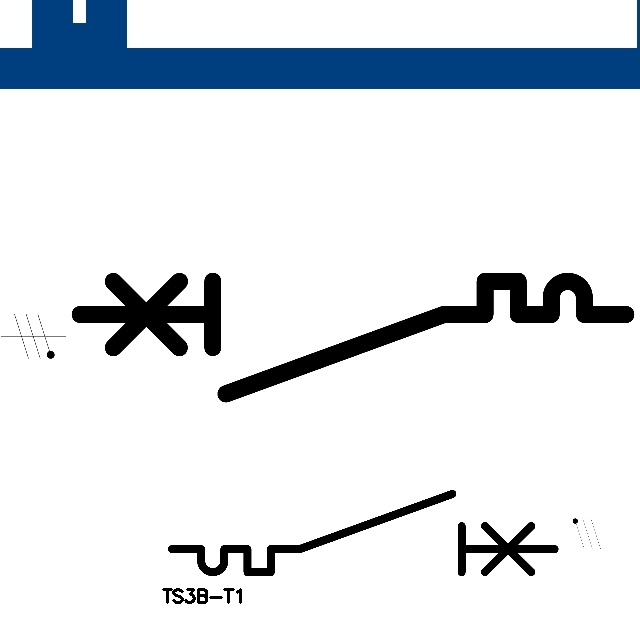interruptor_termomagnetico: (65, 267, 639, 407), (162, 484, 565, 582)
